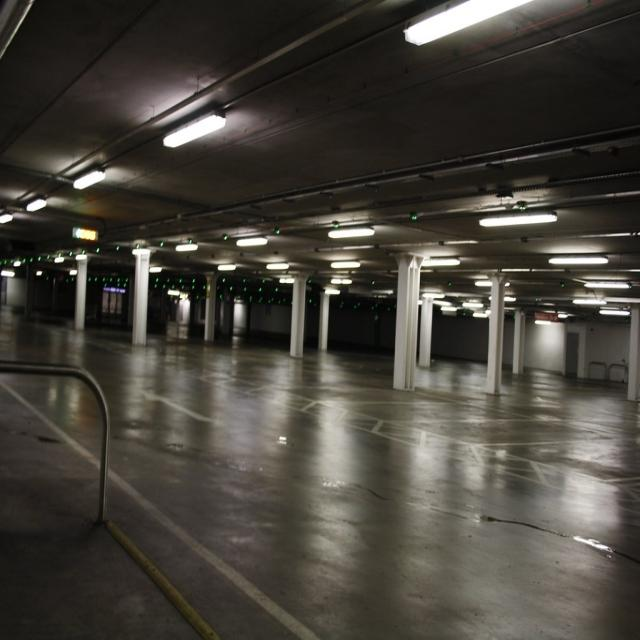pillar: (392, 255, 432, 390), (486, 279, 503, 393), (132, 249, 149, 344), (290, 279, 305, 357), (628, 304, 639, 401), (204, 275, 218, 341), (74, 258, 86, 329), (512, 310, 525, 374), (318, 292, 329, 350)
rebar: (56, 0, 386, 174), (110, 124, 639, 231), (221, 15, 415, 109), (106, 120, 188, 164), (190, 110, 208, 118)
